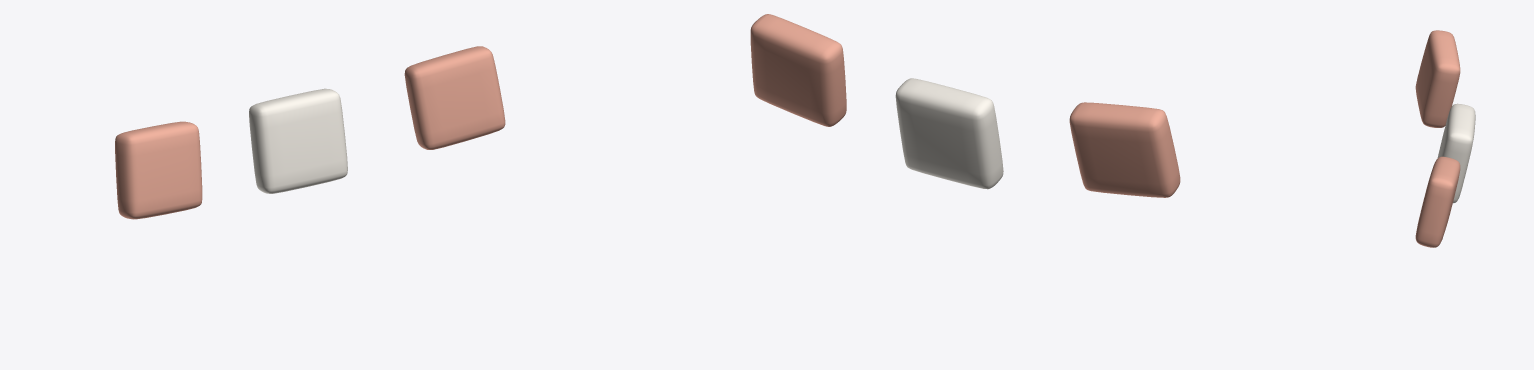
The model's file is sofa.glb.
The picture shows the model from 3 angles, left to right: view 1: azimuth 30°, elevation 25°; view 2: azimuth 150°, elevation 25°; view 3: azimuth 270°, elevation 25°; orthographic projection. The views are drawn at different scales.
Visible parts, largest first — view 1: Sofa2; view 2: Sofa2; view 3: Sofa2.
Boxes of the visible parts, x1=… form: Sofa2: x1=115, y1=46, x2=505, y2=219; Sofa2: x1=750, y1=14, x2=1180, y2=197; Sofa2: x1=1415, y1=30, x2=1475, y2=247.
Bounding box in the file's own units: 2.8 × 0.9994 × 1.07.
